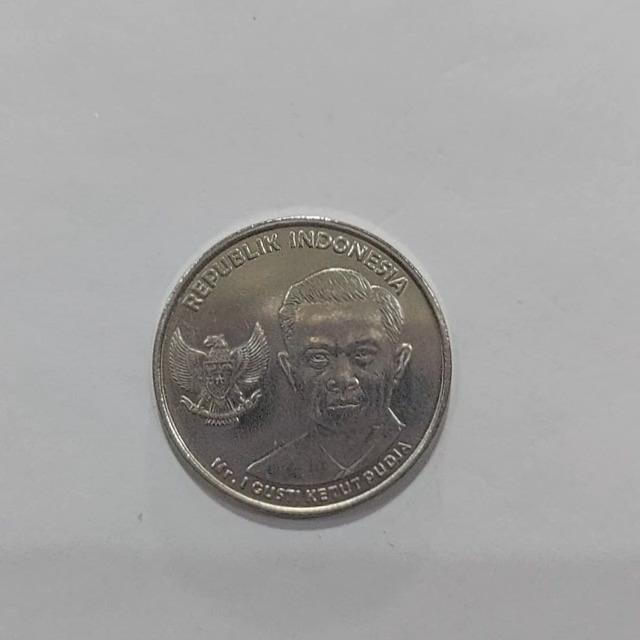Rp100: (151, 214, 453, 520), (237, 264, 417, 494), (165, 318, 273, 428)
